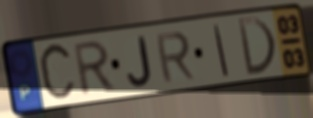C: (37, 40, 79, 107)
D: (235, 15, 279, 78)
I: (212, 23, 231, 79)
J: (126, 34, 154, 89)
R: (72, 38, 119, 99), (153, 29, 197, 85)
